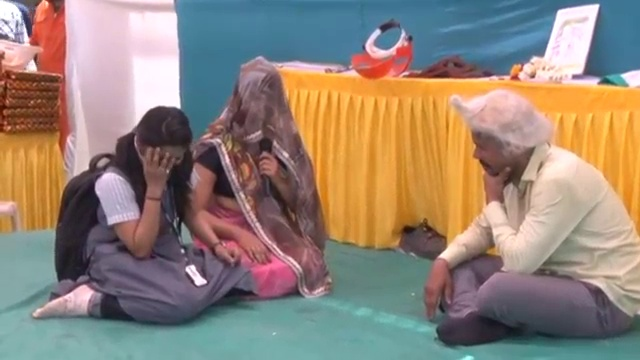helmet: (0, 40, 43, 75)
helmet_off: (453, 92, 552, 190), (126, 107, 194, 182), (231, 61, 287, 137)
person: (411, 87, 640, 334), (34, 102, 231, 320), (185, 56, 328, 297), (28, 1, 67, 76)
